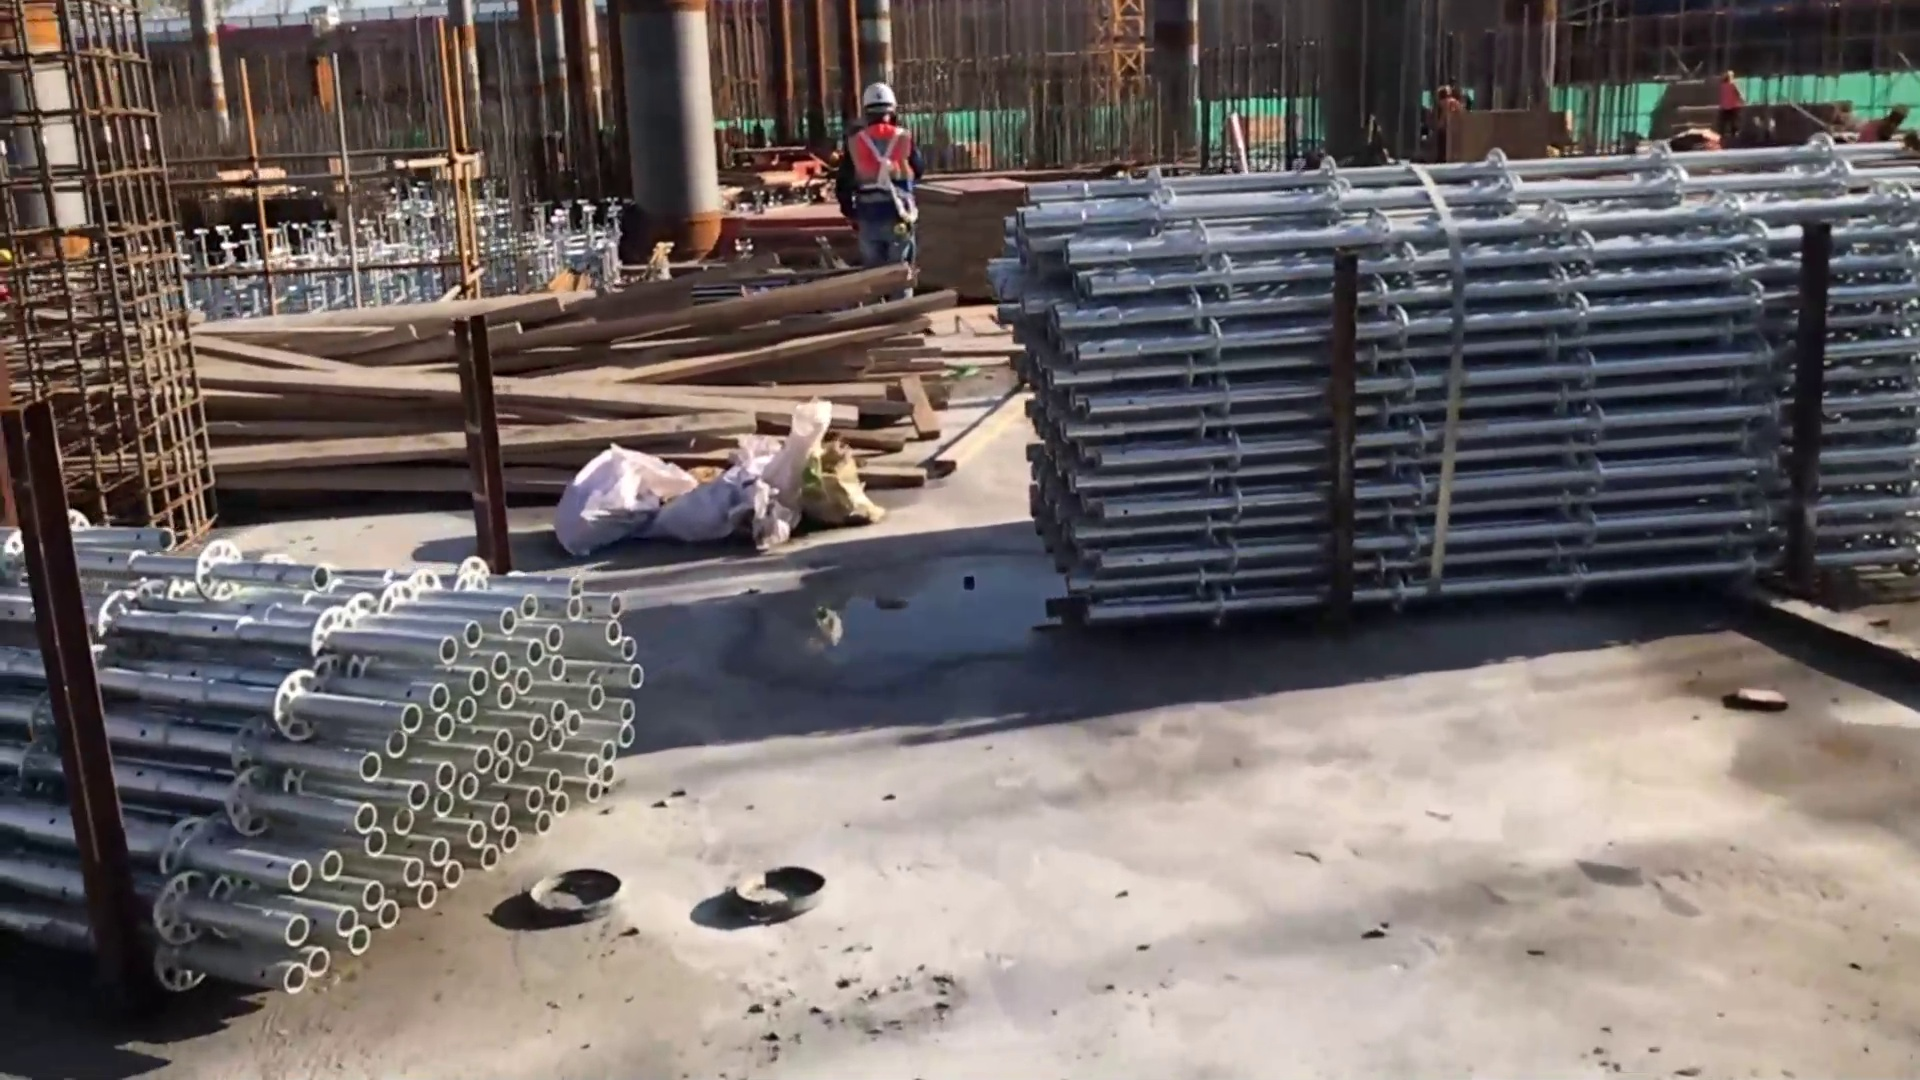helmet: (863, 82, 897, 109)
person: (831, 87, 939, 293)
scaffold: (985, 145, 1920, 615), (4, 519, 650, 992)
vest: (837, 125, 918, 223)
wood: (196, 285, 954, 514)
